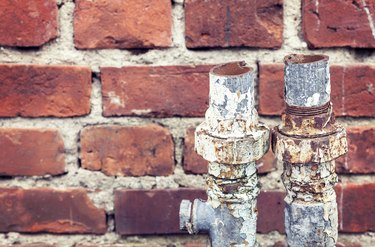Low: (205, 100, 350, 210)
